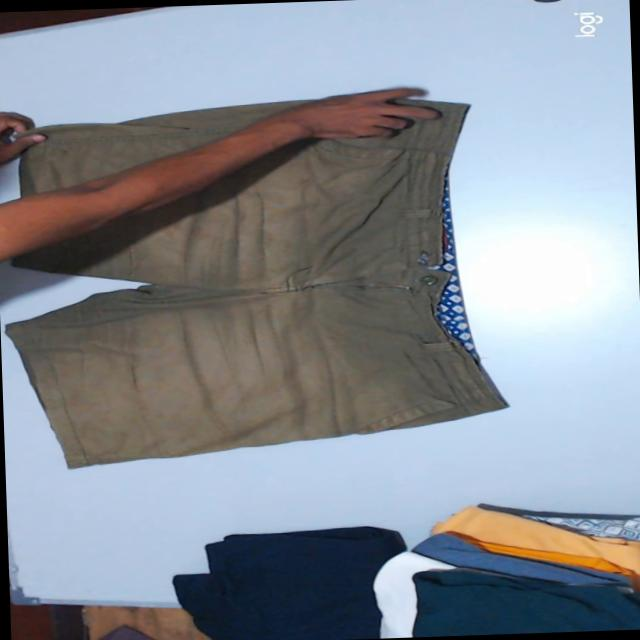new-garment: (6, 101, 505, 467), (20, 102, 297, 192)
